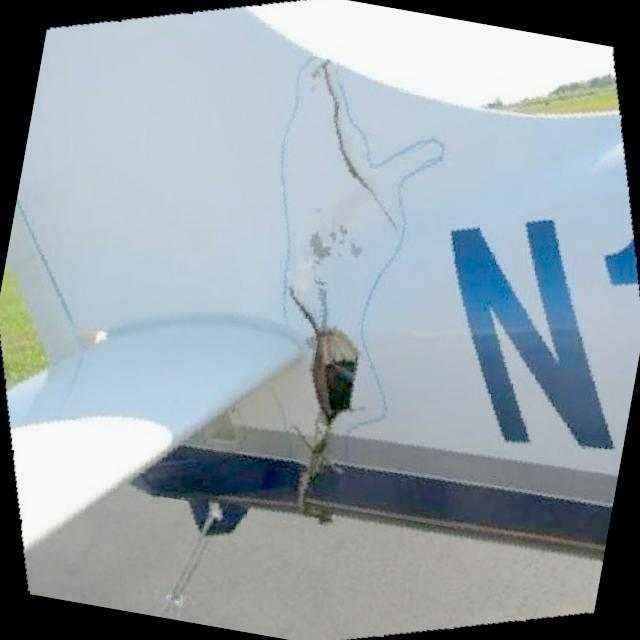crack: (288, 70, 416, 228), (328, 83, 395, 229), (310, 326, 359, 429)
